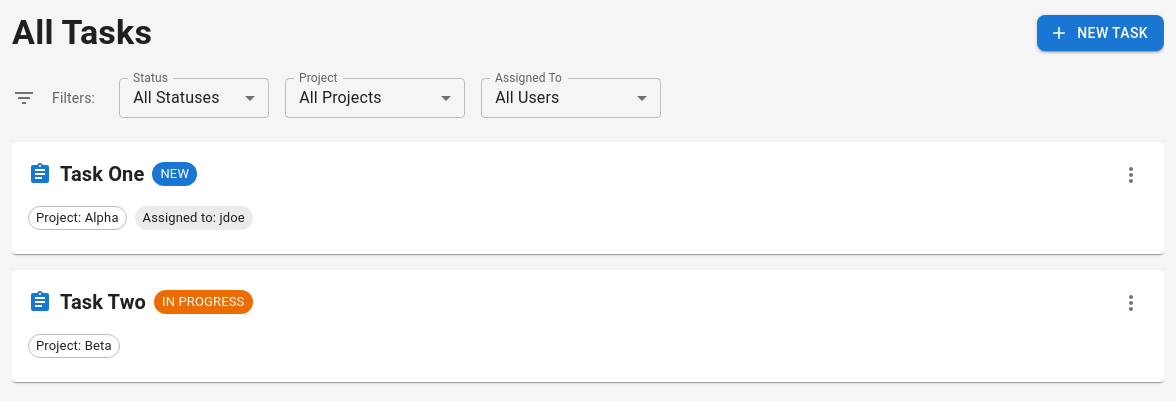
Scenario: TasksView Component › filters tasks by status when using the Select dropdown
The width and height of the screenshot is (1176, 401).
Press the mouse on the dropdown "All Statuses" at (176,98), box [133, 88, 220, 108]
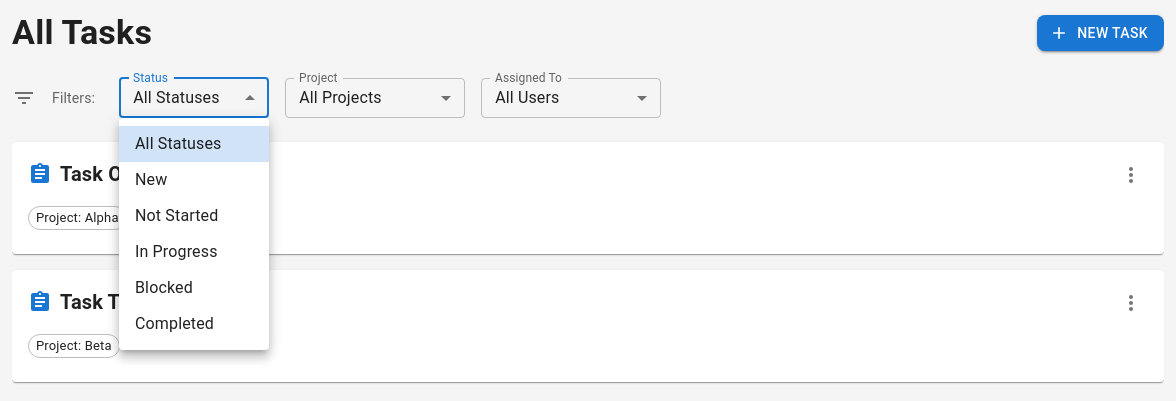
Options are in a Portal (outside the component), so search global screen
Click the option "New".
click(151, 180)  # box [135, 170, 167, 189]
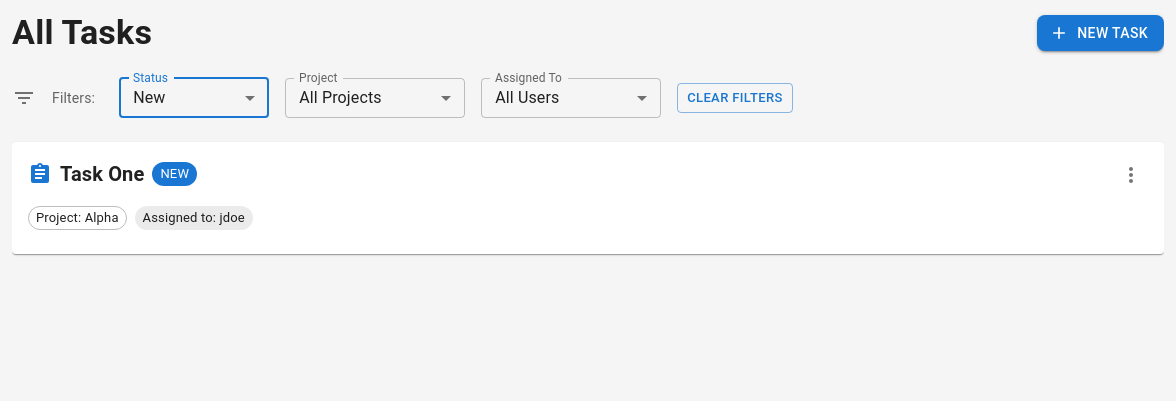
Expected: the heading "Task One" is shown, [60, 158, 144, 190]
Expected: the heading "Task Two" is gone
